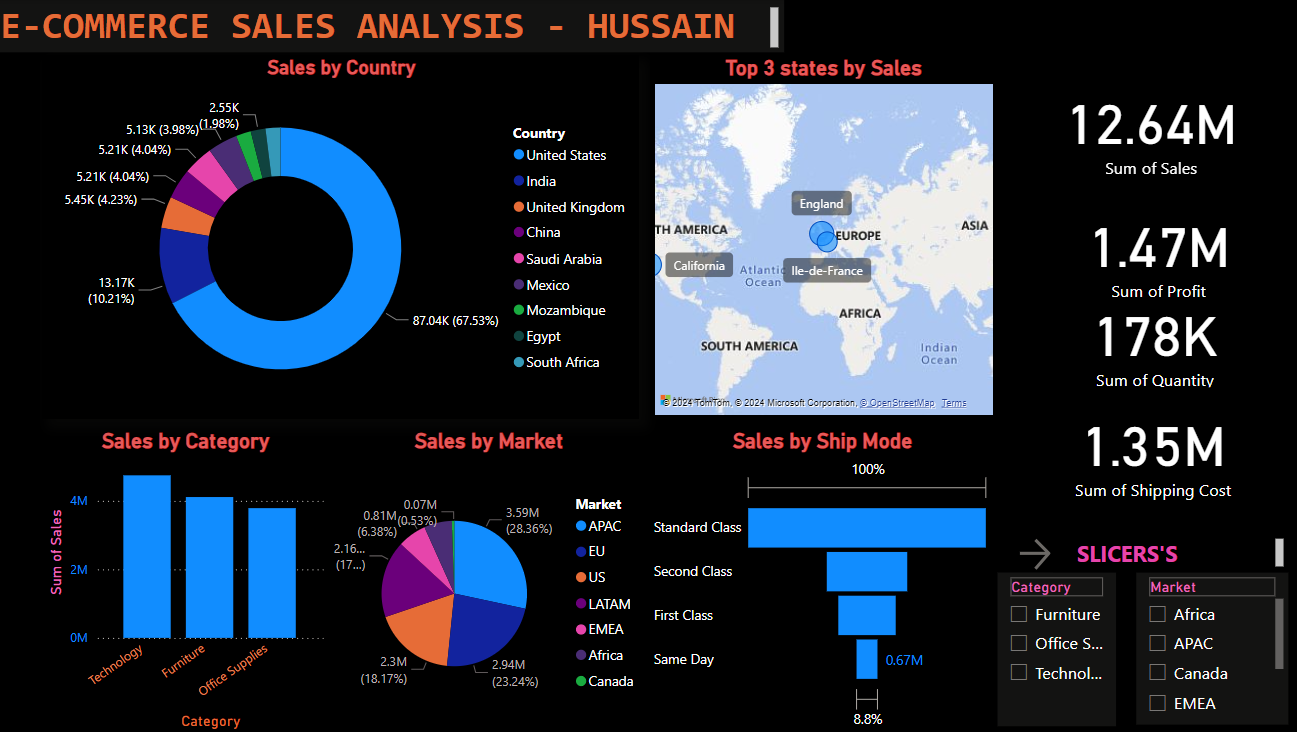

The page's visual inventory and layout, read from the dashboard file:
{"tool":"powerbi","page":{"name":"Page 1","canvas":[1280,720],"ordinal":0},"visuals":[{"type":"columnChart","title":"Sales by Category","fields":{"Category":["Orders.Category"],"Y":["Orders.Sales"]},"box":[46.5,419.4,280,299.6],"z":0},{"type":"pieChart","title":"Sales by Market","fields":{"Category":["Orders.Market"],"Y":["Orders.Sales"]},"box":[326.5,419.4,313,299.6],"z":1000},{"type":"funnel","title":"Sales by Ship Mode","fields":{"Category":["Orders.Ship Mode"],"Y":["Orders.Sales"]},"box":[639.5,419.4,339.9,299.6],"z":2000},{"type":"donutChart","title":"Sales by Country","fields":{"Category":["Orders.Country"],"Y":["Orders.Sales"]},"box":[46.5,53.8,583.3,355.8],"z":3000},{"type":"card","fields":{"Values":["Orders.Quantity"]},"box":[1002.7,281.3,262.9,101.5],"z":4000},{"type":"map","title":"Top 3 states by Sales ","fields":{"Category":["Orders.State"],"Size":["Orders.Sales"]},"box":[640.8,53.8,339.9,357.1],"z":5000},{"type":"card","fields":{"Values":["Orders.Sales"]},"box":[980.7,69.7,299.6,110.1],"z":6000},{"type":"card","fields":{"Values":["Orders.Profit"]},"box":[1018.6,194.4,238.5,101.5],"z":7000},{"type":"card","fields":{"Values":["Orders.Shipping Cost"]},"box":[1035.7,382.7,193.2,114.9],"z":8000},{"type":"slicer","fields":{"Values":["Orders.Category"]},"box":[980.7,560.1,116.2,150.4],"z":9000},{"type":"slicer","fields":{"Values":["Orders.Market"]},"box":[1116.4,560.1,149.2,149.2],"z":10000},{"type":"textbox","box":[0,0,771.6,51.4],"z":11000},{"type":"textbox","box":[1035.7,522.1,229.9,37.9],"z":12000},{"type":"actionButton","box":[996.6,522.1,100.3,40.4],"z":13000}]}

Visuals, with their boxes in screenshot pixels (x1, y1, x2, y2), scaled from the page's 1280x720 canvas onto the 1297x732 screenshot:
"Sales by Category" columnChart: (left=47, top=426, right=331, bottom=731)
"Sales by Market" pieChart: (left=331, top=426, right=648, bottom=731)
"Sales by Ship Mode" funnel: (left=648, top=426, right=992, bottom=731)
"Sales by Country" donutChart: (left=47, top=55, right=638, bottom=416)
card - Orders.Quantity: (left=1016, top=286, right=1282, bottom=389)
"Top 3 states by Sales " map: (left=649, top=55, right=994, bottom=418)
card - Orders.Sales: (left=994, top=71, right=1296, bottom=183)
card - Orders.Profit: (left=1032, top=198, right=1274, bottom=301)
card - Orders.Shipping Cost: (left=1049, top=389, right=1245, bottom=506)
slicer - Orders.Category: (left=994, top=569, right=1111, bottom=722)
slicer - Orders.Market: (left=1131, top=569, right=1282, bottom=721)
textbox: (left=0, top=0, right=782, bottom=52)
textbox: (left=1049, top=531, right=1282, bottom=569)
actionButton: (left=1010, top=531, right=1111, bottom=572)
